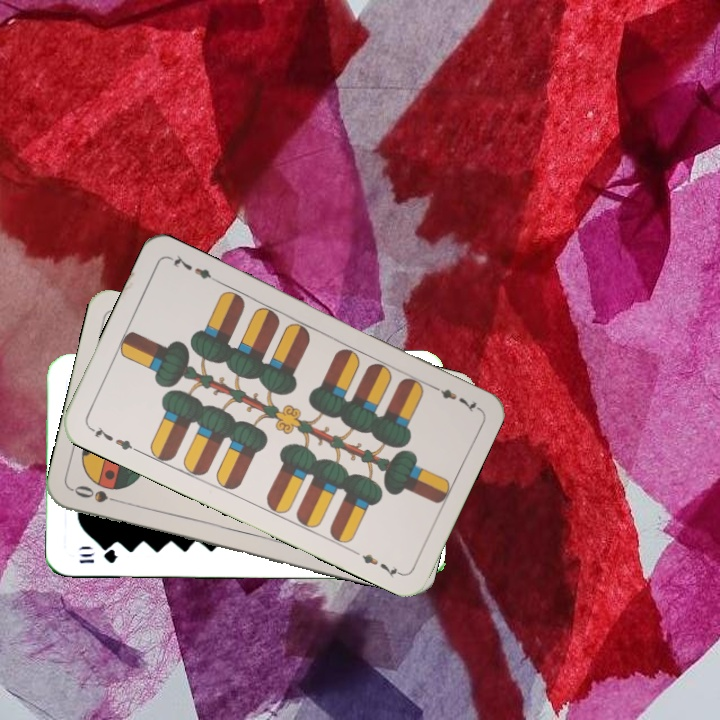E7: (425, 380, 481, 415), (85, 422, 140, 455)
G10: (75, 546, 119, 566)
SO: (70, 481, 128, 507)
